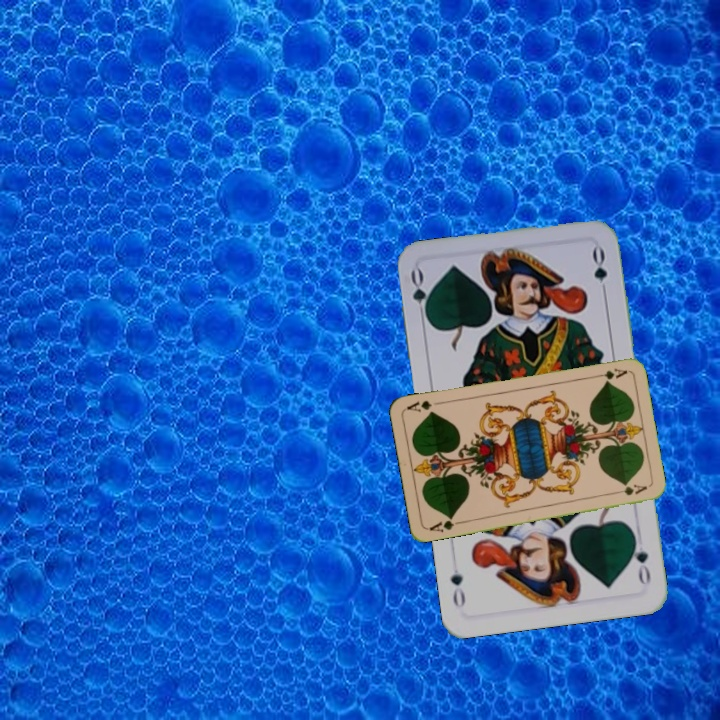GA: (425, 512, 465, 535), (589, 364, 630, 383)
GO: (406, 265, 433, 325), (627, 530, 653, 589)
